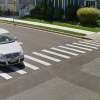crosswalk: (1, 41, 100, 79)
